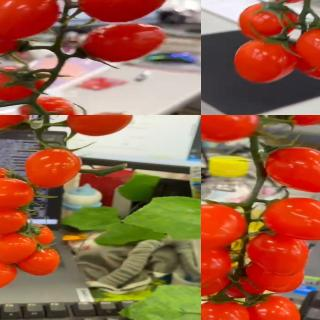tomato: (78, 24, 165, 66), (233, 39, 302, 85), (248, 231, 311, 275), (263, 147, 320, 195), (265, 195, 320, 240), (0, 0, 62, 39), (238, 2, 300, 41), (24, 148, 82, 188), (201, 204, 248, 253), (244, 258, 306, 294), (78, 0, 168, 24), (201, 115, 261, 142), (0, 66, 44, 102), (244, 293, 301, 320), (15, 246, 61, 277), (201, 246, 232, 292), (295, 24, 320, 74), (19, 95, 80, 115), (201, 297, 250, 320), (0, 176, 35, 208), (0, 233, 36, 264), (14, 221, 56, 246), (201, 270, 231, 301), (0, 11, 19, 55), (0, 206, 27, 236), (261, 115, 320, 126), (0, 259, 18, 291), (0, 115, 30, 134), (0, 165, 17, 189), (0, 239, 11, 264)
